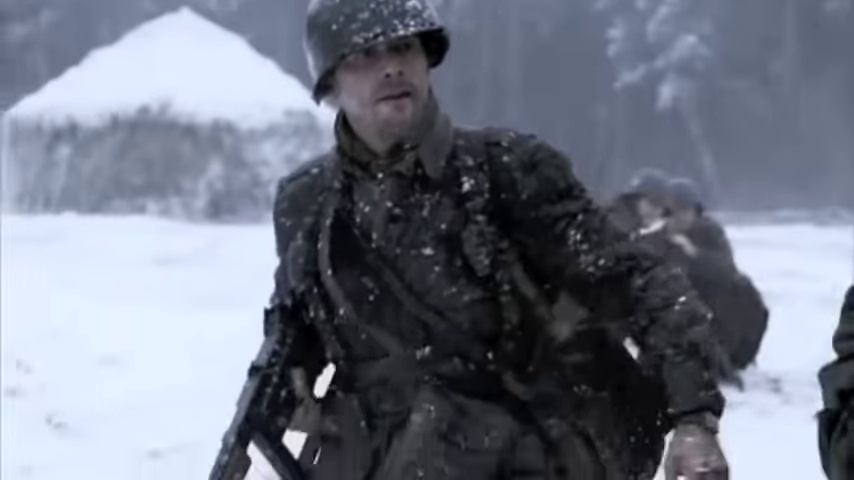gun: (199, 267, 344, 480)
p_w_gun: (198, 1, 733, 480)
